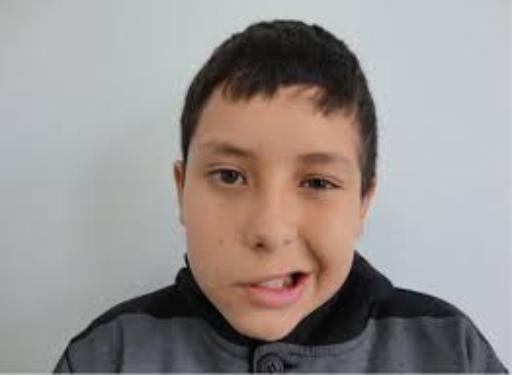left_eye: (298, 177, 344, 193)
left_lip_corner: (296, 267, 318, 282)
right_eye: (205, 166, 249, 189)
right_lip_corner: (226, 279, 251, 292)
